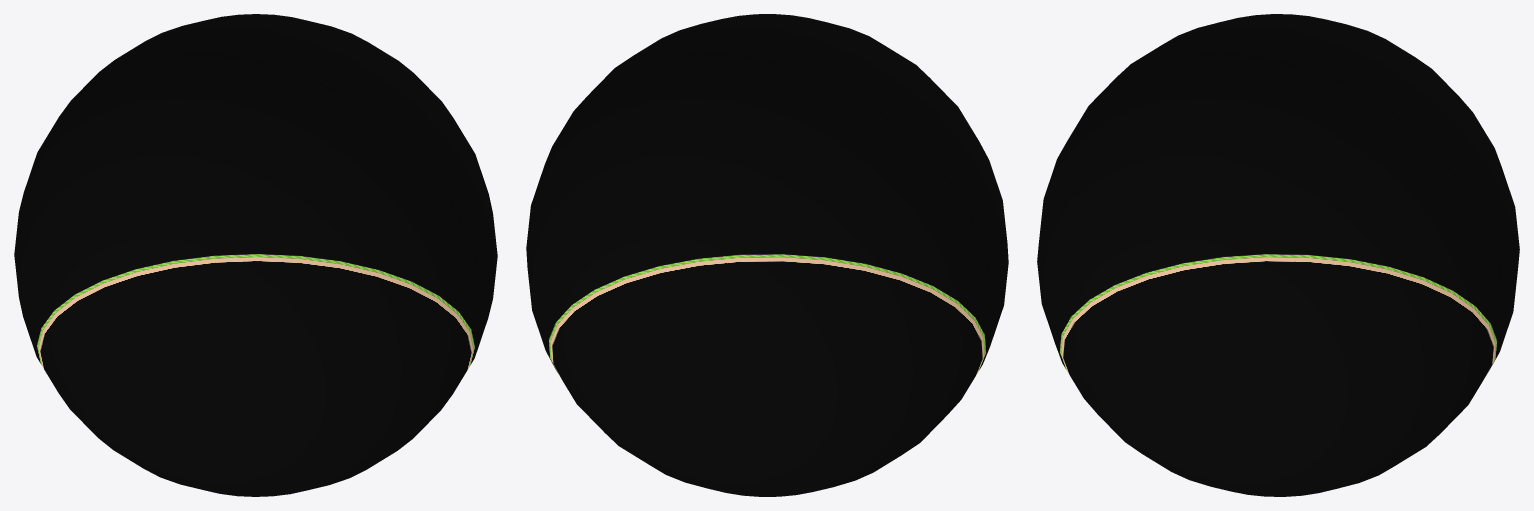
Rendered from Ground007v1.glb.
3 views of the same model, side by side, from view 1: azimuth 30°, elevation 25°; view 2: azimuth 150°, elevation 25°; view 3: azimuth 270°, elevation 25° (orthographic).
Parts seen in each view (by area): view 1: ground; view 2: ground; view 3: ground.
Boxes of the visible parts, x1,y1,x2,y2 form: ground: (14,14,497,496); ground: (526,14,1008,496); ground: (1037,14,1519,496).
Bounding box in the file's own units: 60.58 × 60.69 × 60.58.
Materials: 1 (1 with a texture image).
